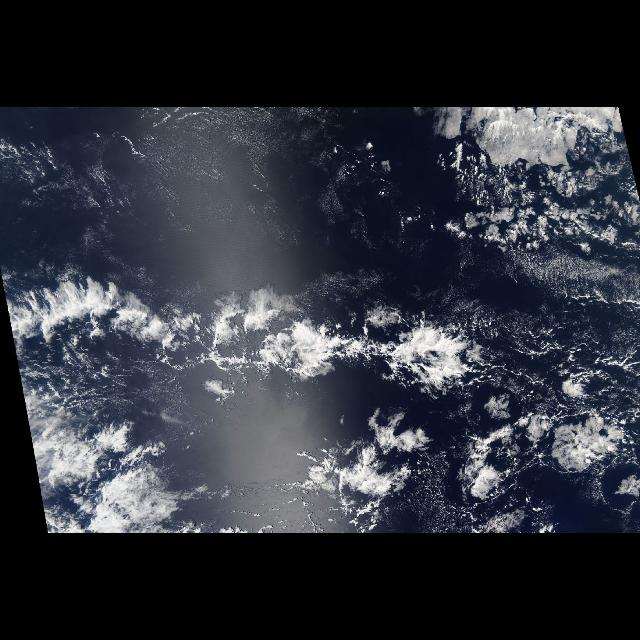Fish: (9, 270, 517, 404)
Sugar: (14, 110, 424, 252), (462, 250, 624, 344)
